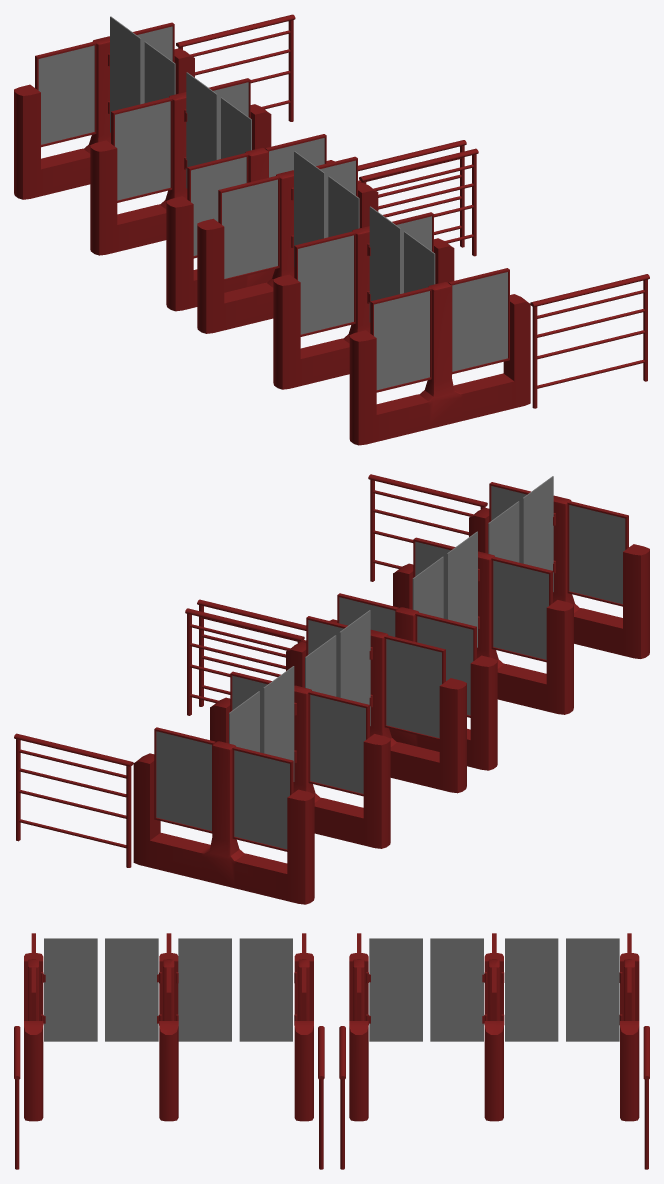
The model's file is sidedoors.fbx.
The picture shows the model from 3 angles, top to bottom: view 1: azimuth 30°, elevation 25°; view 2: azimuth 150°, elevation 25°; view 3: azimuth 270°, elevation 25°; orthographic projection. The views are drawn at different scales.
Visible parts, largest first — view 1: Cylinder010, Cylinder011; view 2: Cylinder011, Cylinder010; view 3: Cylinder011, Cylinder010.
Part boxes in pixels (left/top/right/bottom): Cylinder010: left=197, top=148, right=649, bottom=445; Cylinder011: left=14, top=14, right=466, bottom=311; Cylinder011: left=14, top=608, right=466, bottom=904; Cylinder010: left=197, top=474, right=649, bottom=770; Cylinder011: left=339, top=933, right=649, bottom=1169; Cylinder010: left=14, top=933, right=324, bottom=1169.
Size of the model in its own units: 2.26 by 4.9 by 1.23.
